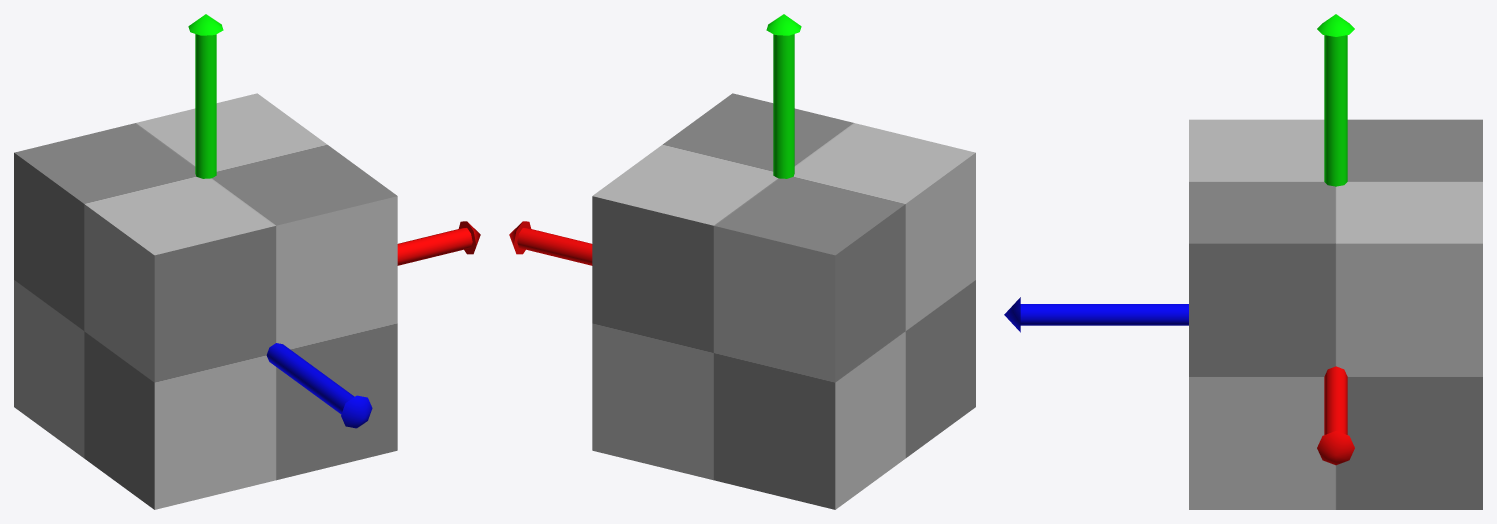
Rendered from custom_box_mesh.fbx.
3 renders of one model, left to right at view 1: azimuth 30°, elevation 25°; view 2: azimuth 150°, elevation 25°; view 3: azimuth 270°, elevation 25°, orthographic. The views are drawn at different scales.
Parts seen in each view (by area): view 1: custom_box_mesh; view 2: custom_box_mesh; view 3: custom_box_mesh.
Boxes of the visible parts, box(x1,y1,x2,y2) form: custom_box_mesh: box(14, 14, 480, 509); custom_box_mesh: box(509, 14, 975, 509); custom_box_mesh: box(1004, 14, 1482, 509).
Bounding box in the file's own units: 163 × 163 × 163.
